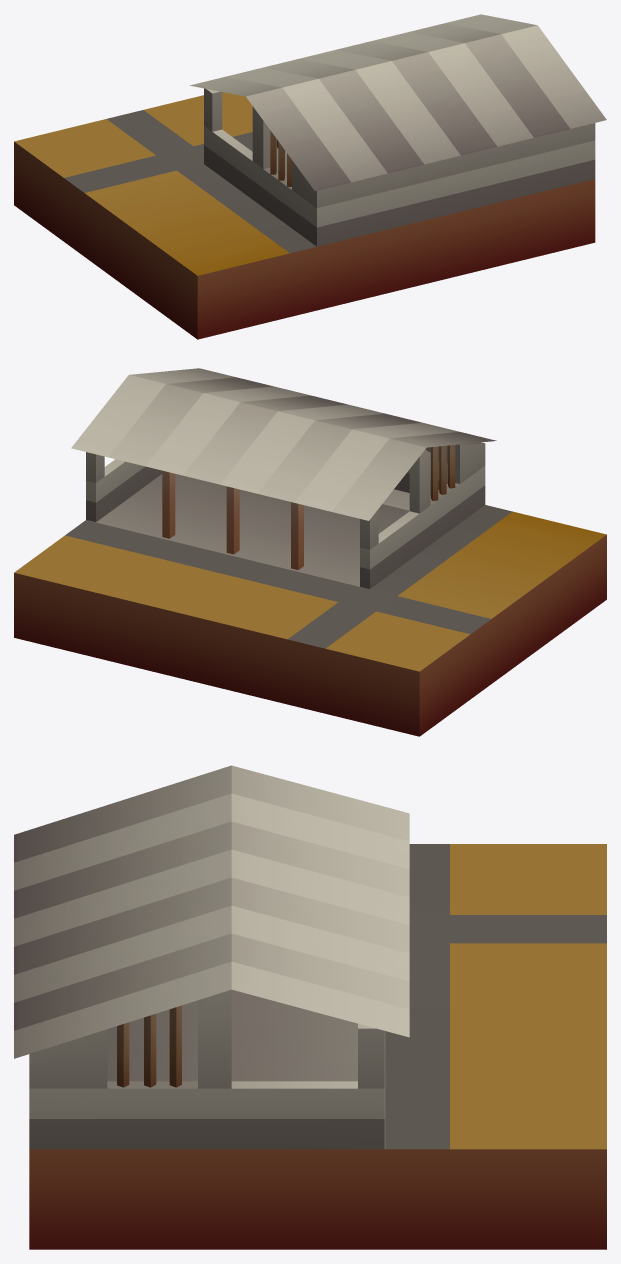
File: SM_Poultry_Farm_01.fbx
3 renders of one model, top to bottom at view 1: azimuth 30°, elevation 25°; view 2: azimuth 150°, elevation 25°; view 3: azimuth 270°, elevation 25°, orthographic. The views are drawn at different scales.
Visible parts, largest first — view 1: SM_PoultryFarmPart_01, SM_PoultryFarmPart_02; view 2: SM_PoultryFarmPart_01, SM_PoultryFarmPart_02; view 3: SM_PoultryFarmPart_01, SM_PoultryFarmPart_02.
Part boxes in pixels (x1,y1,x2,y2): SM_PoultryFarmPart_01: [14, 88, 595, 339]; SM_PoultryFarmPart_02: [189, 14, 606, 190]; SM_PoultryFarmPart_01: [14, 442, 606, 736]; SM_PoultryFarmPart_02: [71, 368, 496, 520]; SM_PoultryFarmPart_01: [29, 844, 606, 1249]; SM_PoultryFarmPart_02: [14, 765, 409, 1058].
Size of the model in its own units: 102 by 40.53 by 82.13.
